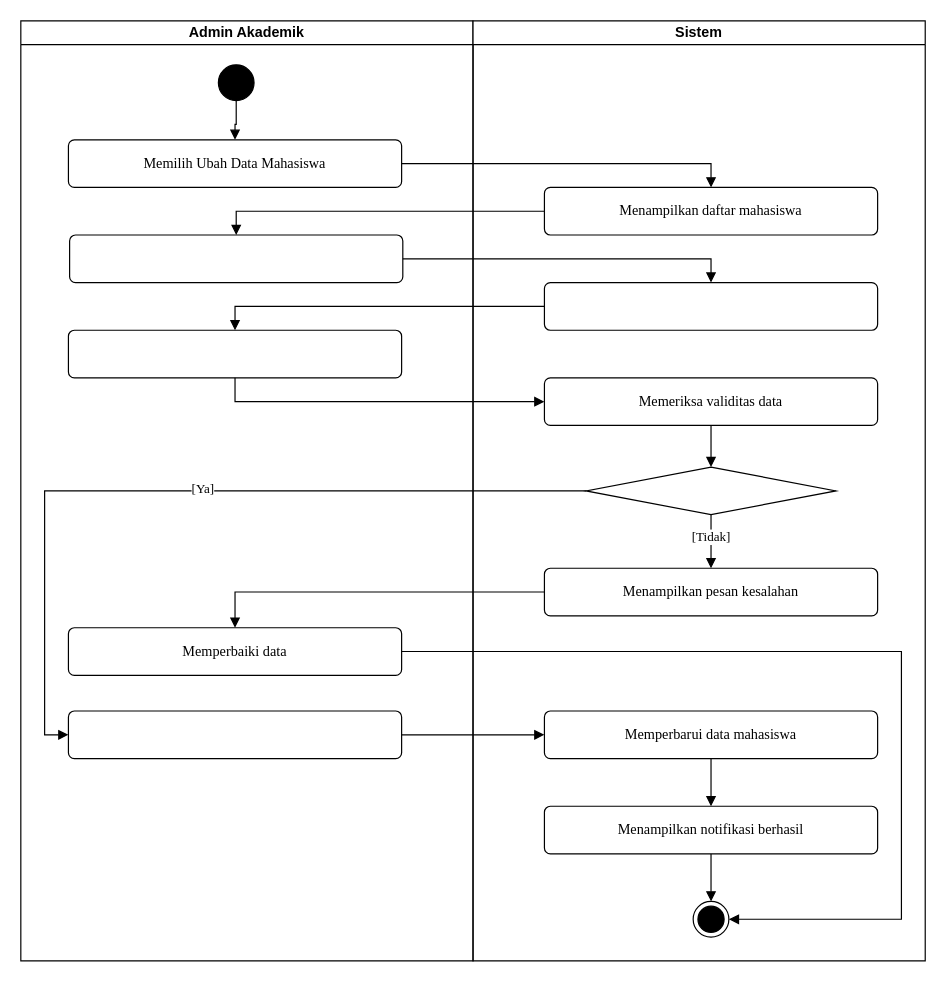
Some shapes in this 946 by 982 pixel diagram are drawn without their labels. Here are the shapes that lost their labels. From the top down, the centre of each, then its label:
At [235,258]: "Mencari dan memilih mahasiswa".
At [710,305]: "Menampilkan detail mahasiswa".
At [234,353]: "Mengubah informasi mahasiswa".
At [710,490]: "Data valid?".
At [234,734]: "Menyimpan perubahan".
